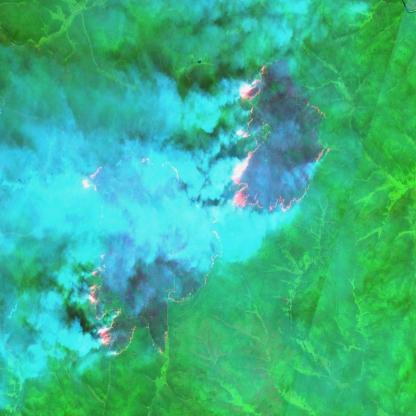fire: (227, 59, 330, 217), (86, 248, 139, 361), (79, 161, 111, 207)
